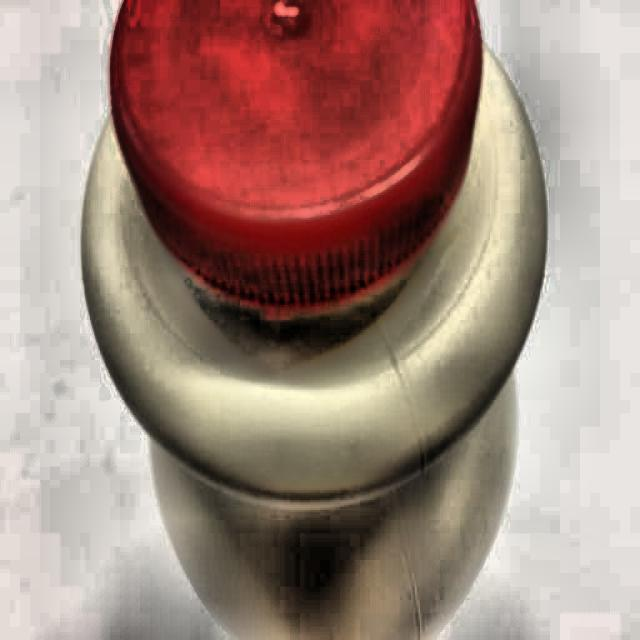plastic: (80, 1, 551, 640)
